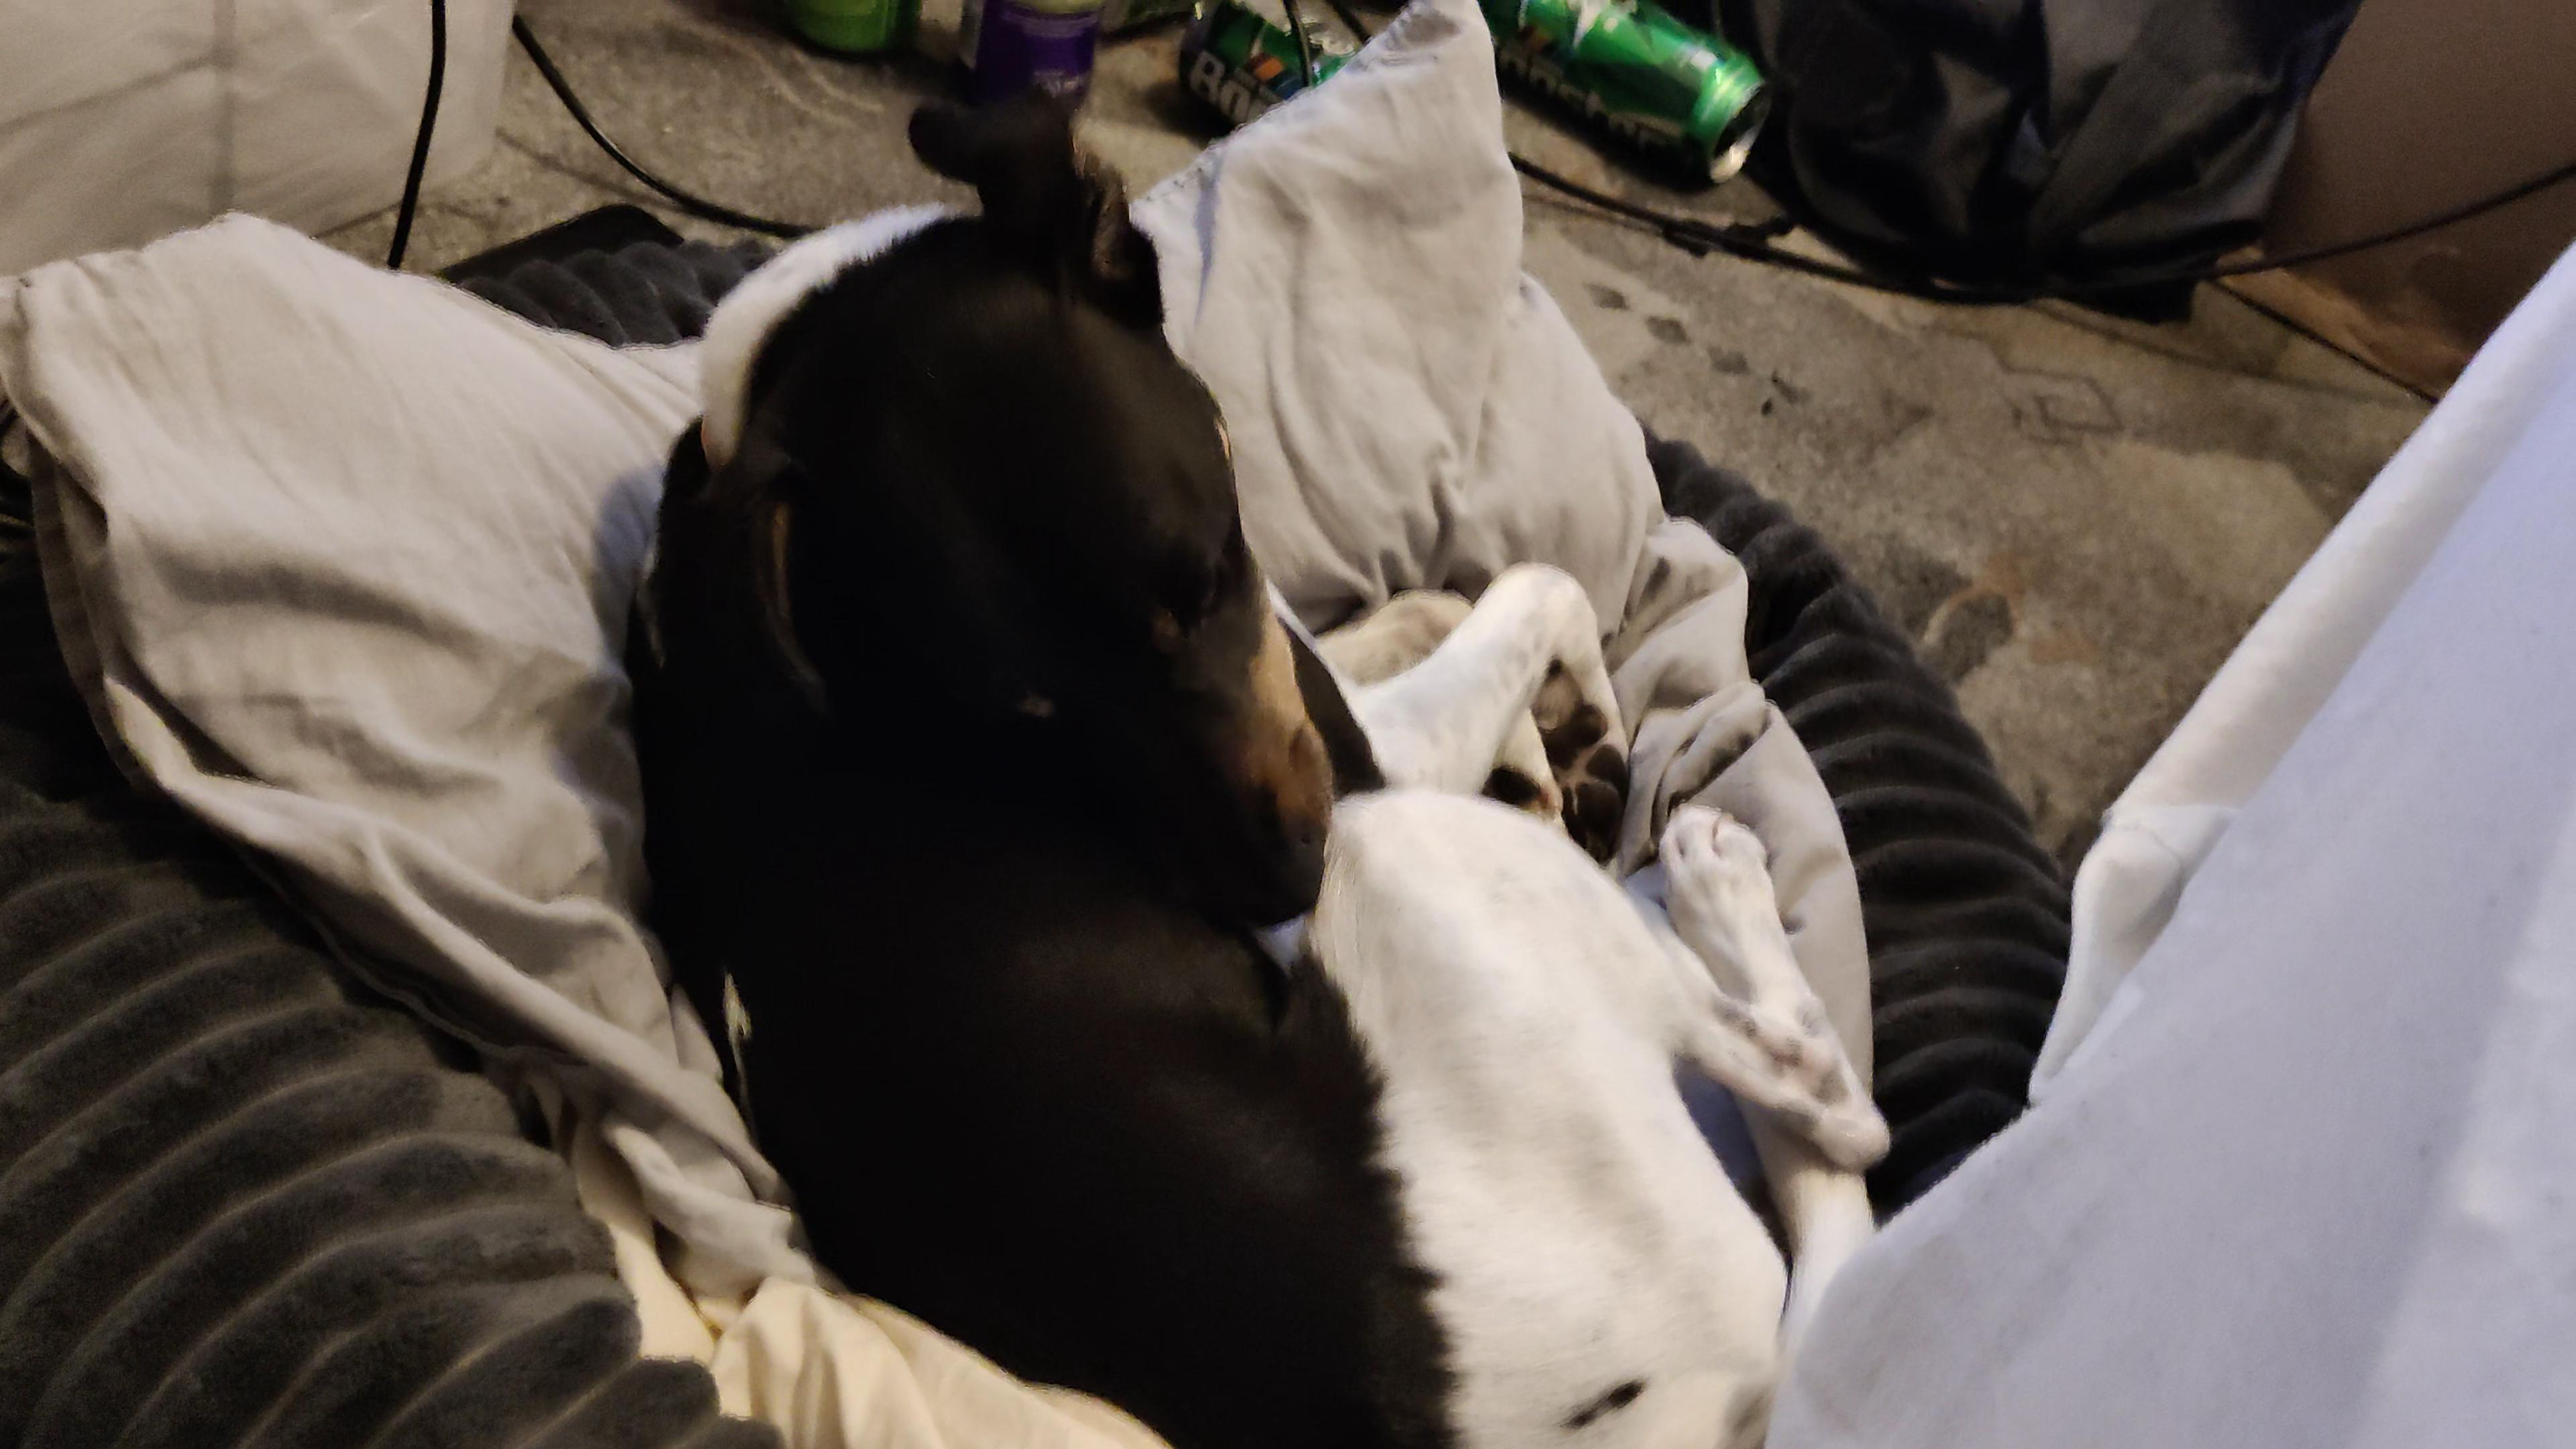Dog: (559, 50, 1932, 1449)
